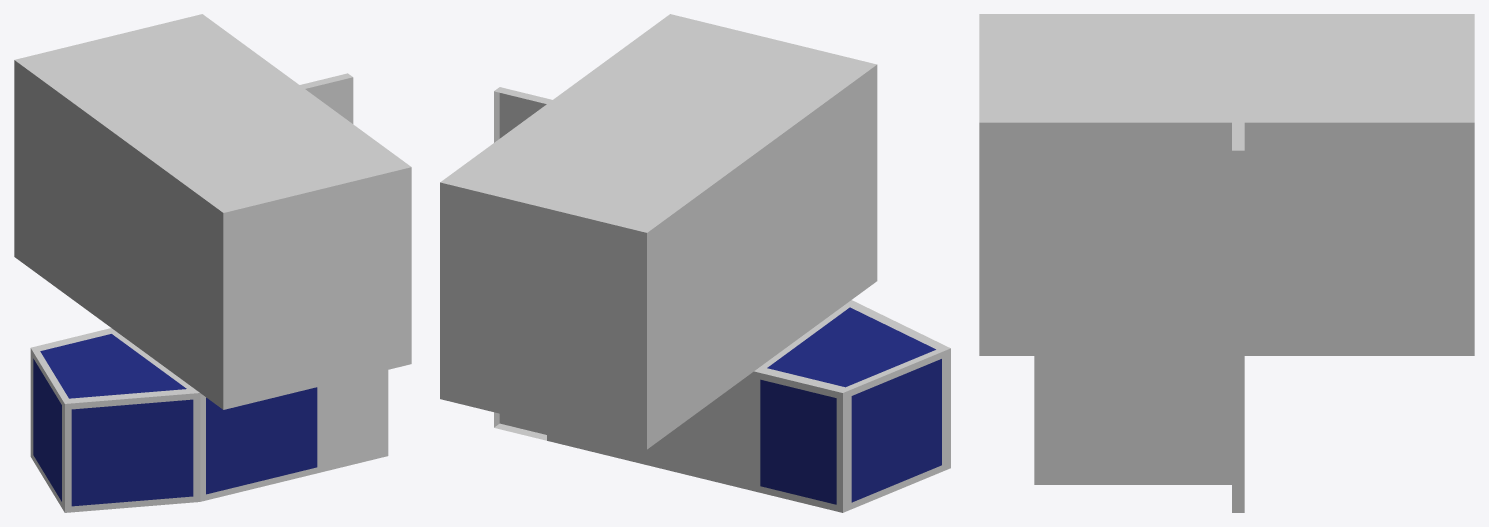
File: small_crane_yaw.glb
The picture shows the model from 3 angles, left to right: view 1: azimuth 30°, elevation 25°; view 2: azimuth 150°, elevation 25°; view 3: azimuth 270°, elevation 25°; orthographic projection. The views are drawn at different scales.
Parts seen in each view (by area): view 1: SEP_subcrane_operator; view 2: SEP_subcrane_operator; view 3: SEP_subcrane_operator.
Part boxes in pixels (x1,y1,x2,y2): SEP_subcrane_operator: (14, 14, 411, 512); SEP_subcrane_operator: (440, 14, 950, 512); SEP_subcrane_operator: (979, 14, 1474, 512).
Bounding box in the file's own units: 4.47 × 3.74 × 4.63.
